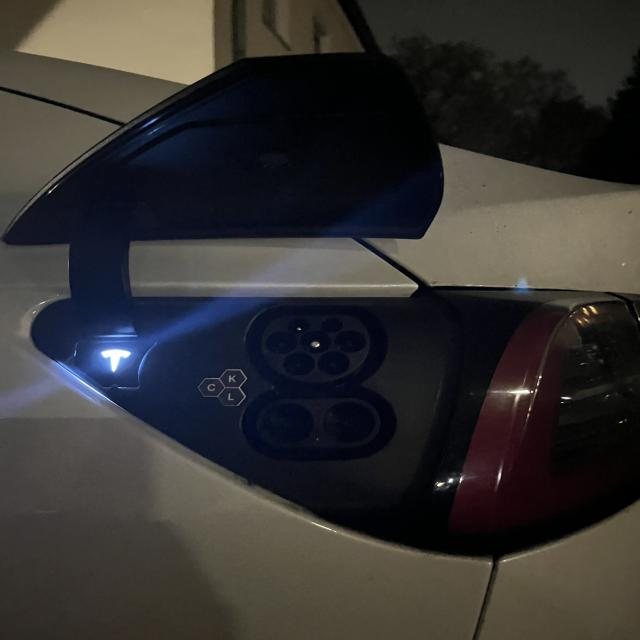inlet: (261, 314, 370, 382)
inlet-above-left: (287, 318, 310, 333)
inlet-above-right: (321, 317, 343, 332)
inlet-below-left: (283, 352, 314, 374)
inlet-below-right: (317, 351, 349, 375)
inlet-circle: (299, 331, 331, 354)
inlet-circle-left: (265, 331, 297, 354)
inlet-circle-right: (334, 331, 365, 352)
inlet-minus: (322, 402, 375, 442)
inlet-plus: (262, 403, 314, 443)
